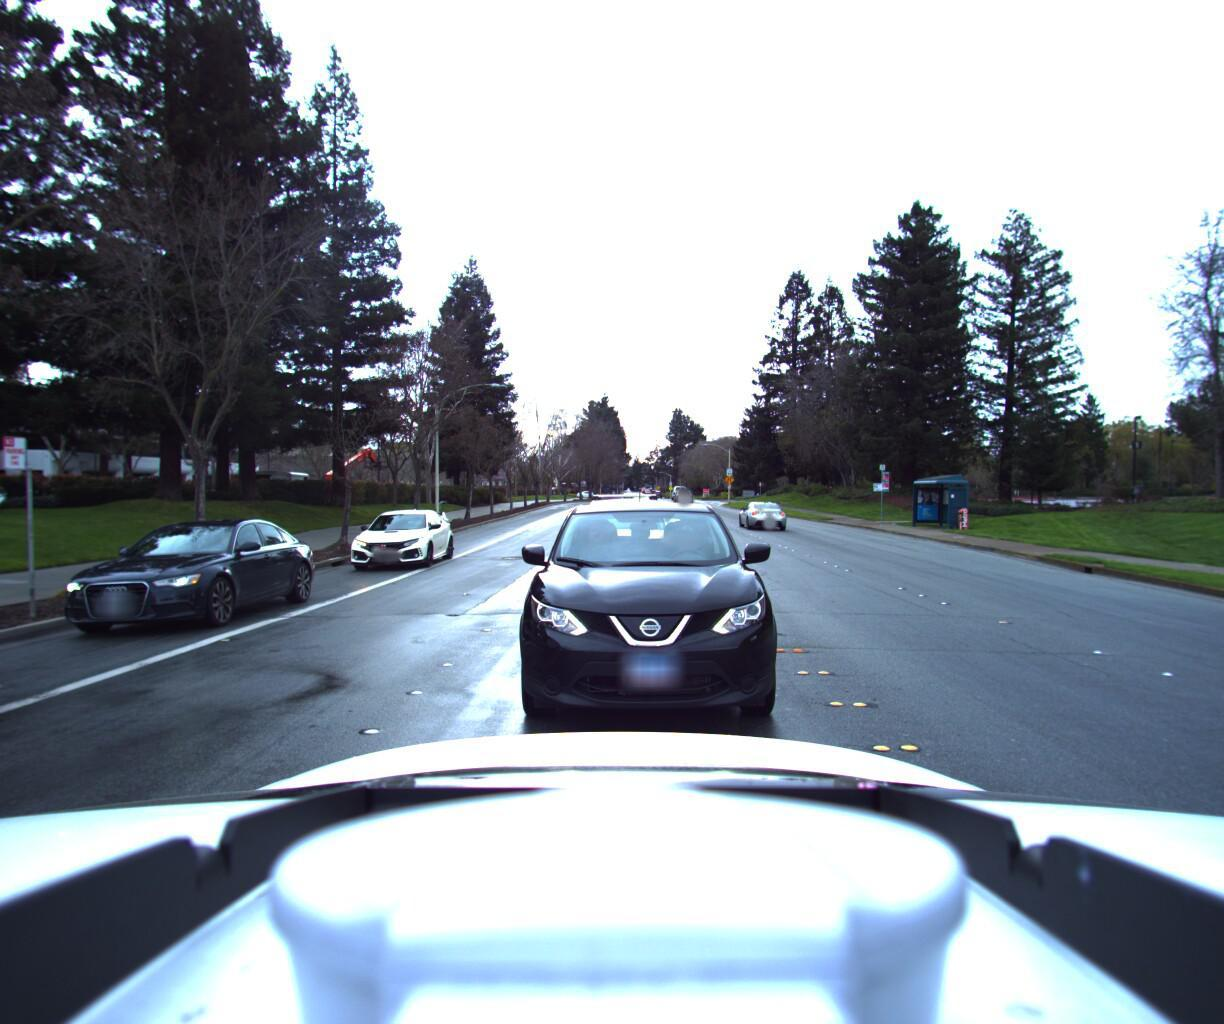car: (499, 501, 807, 756), (26, 518, 323, 643), (566, 493, 687, 600), (342, 511, 460, 576), (733, 504, 787, 533), (674, 494, 691, 509)
